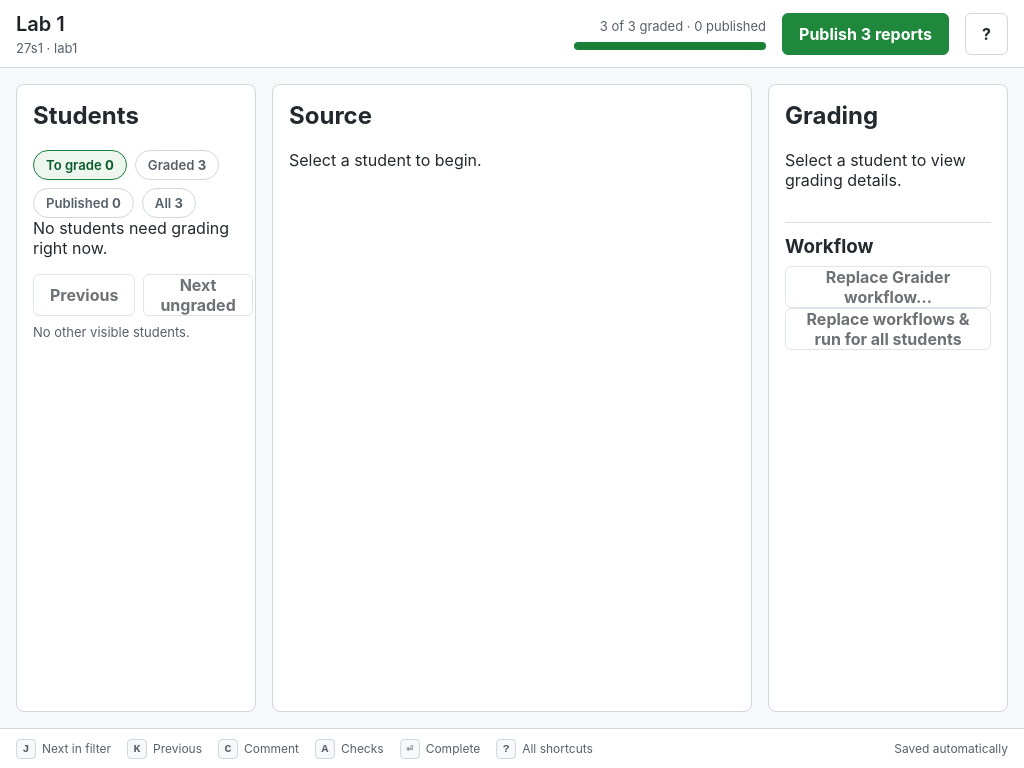
Test case: GradingWorkspacePage publish review › shows per-student outcomes naming who failed and why, continues past failures, and refreshes statuses authoritatively
The width and height of the screenshot is (1024, 768).
What coordinates should you click on to do the following:
click the button "Publish 3 reports"
I would click on:
 (866, 34)
Its box is [782, 12, 949, 54].
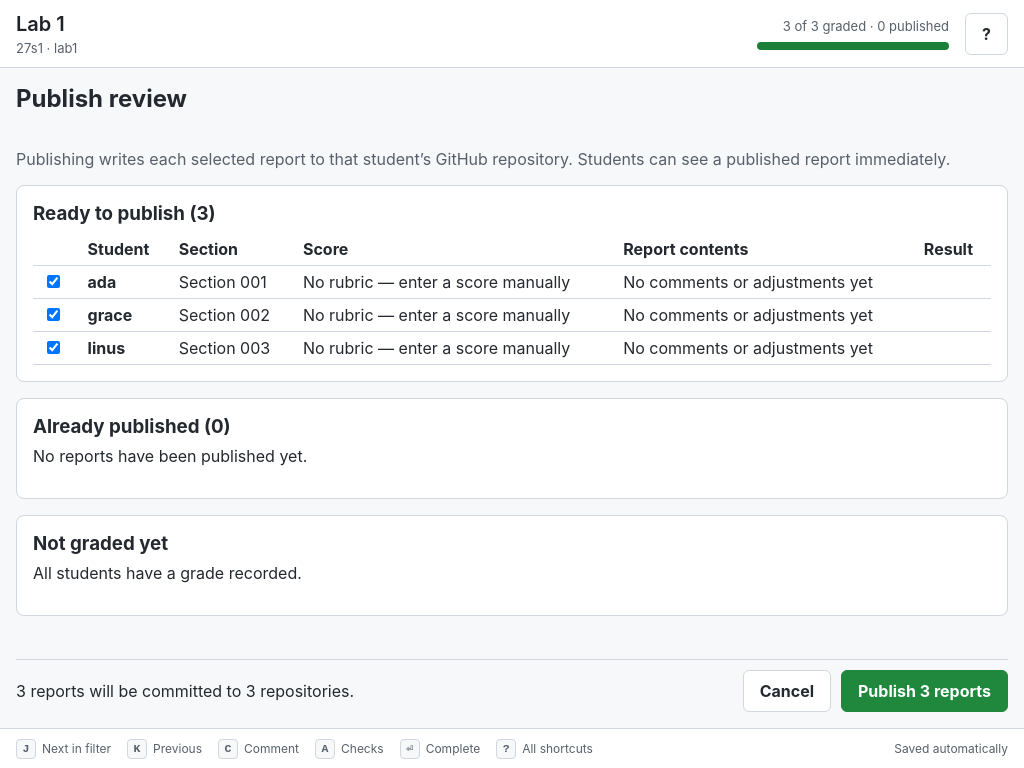
Result: the heading "Publish review" is shown at [16, 84, 187, 113]
What coordinates should you click on to do the following:
click the button "Publish 3 reports"
I would click on:
 (924, 691)
Its box is [841, 670, 1008, 712].
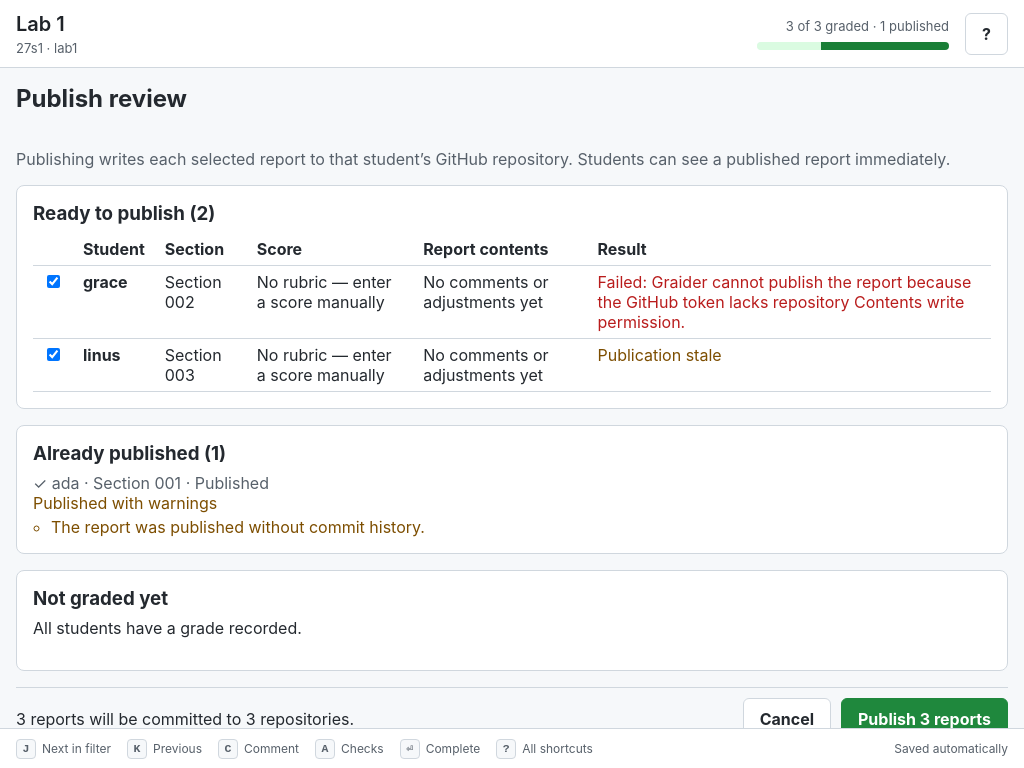
Result: the heading "Already published (1)" is shown at [33, 442, 226, 465]
Result: the list item "The report was published without commit history." shows "ada · Section 001 · Published" at [33, 473, 425, 537]
Result: the list item "The report was published without commit history." shows "Published with warnings" at [33, 493, 217, 513]
